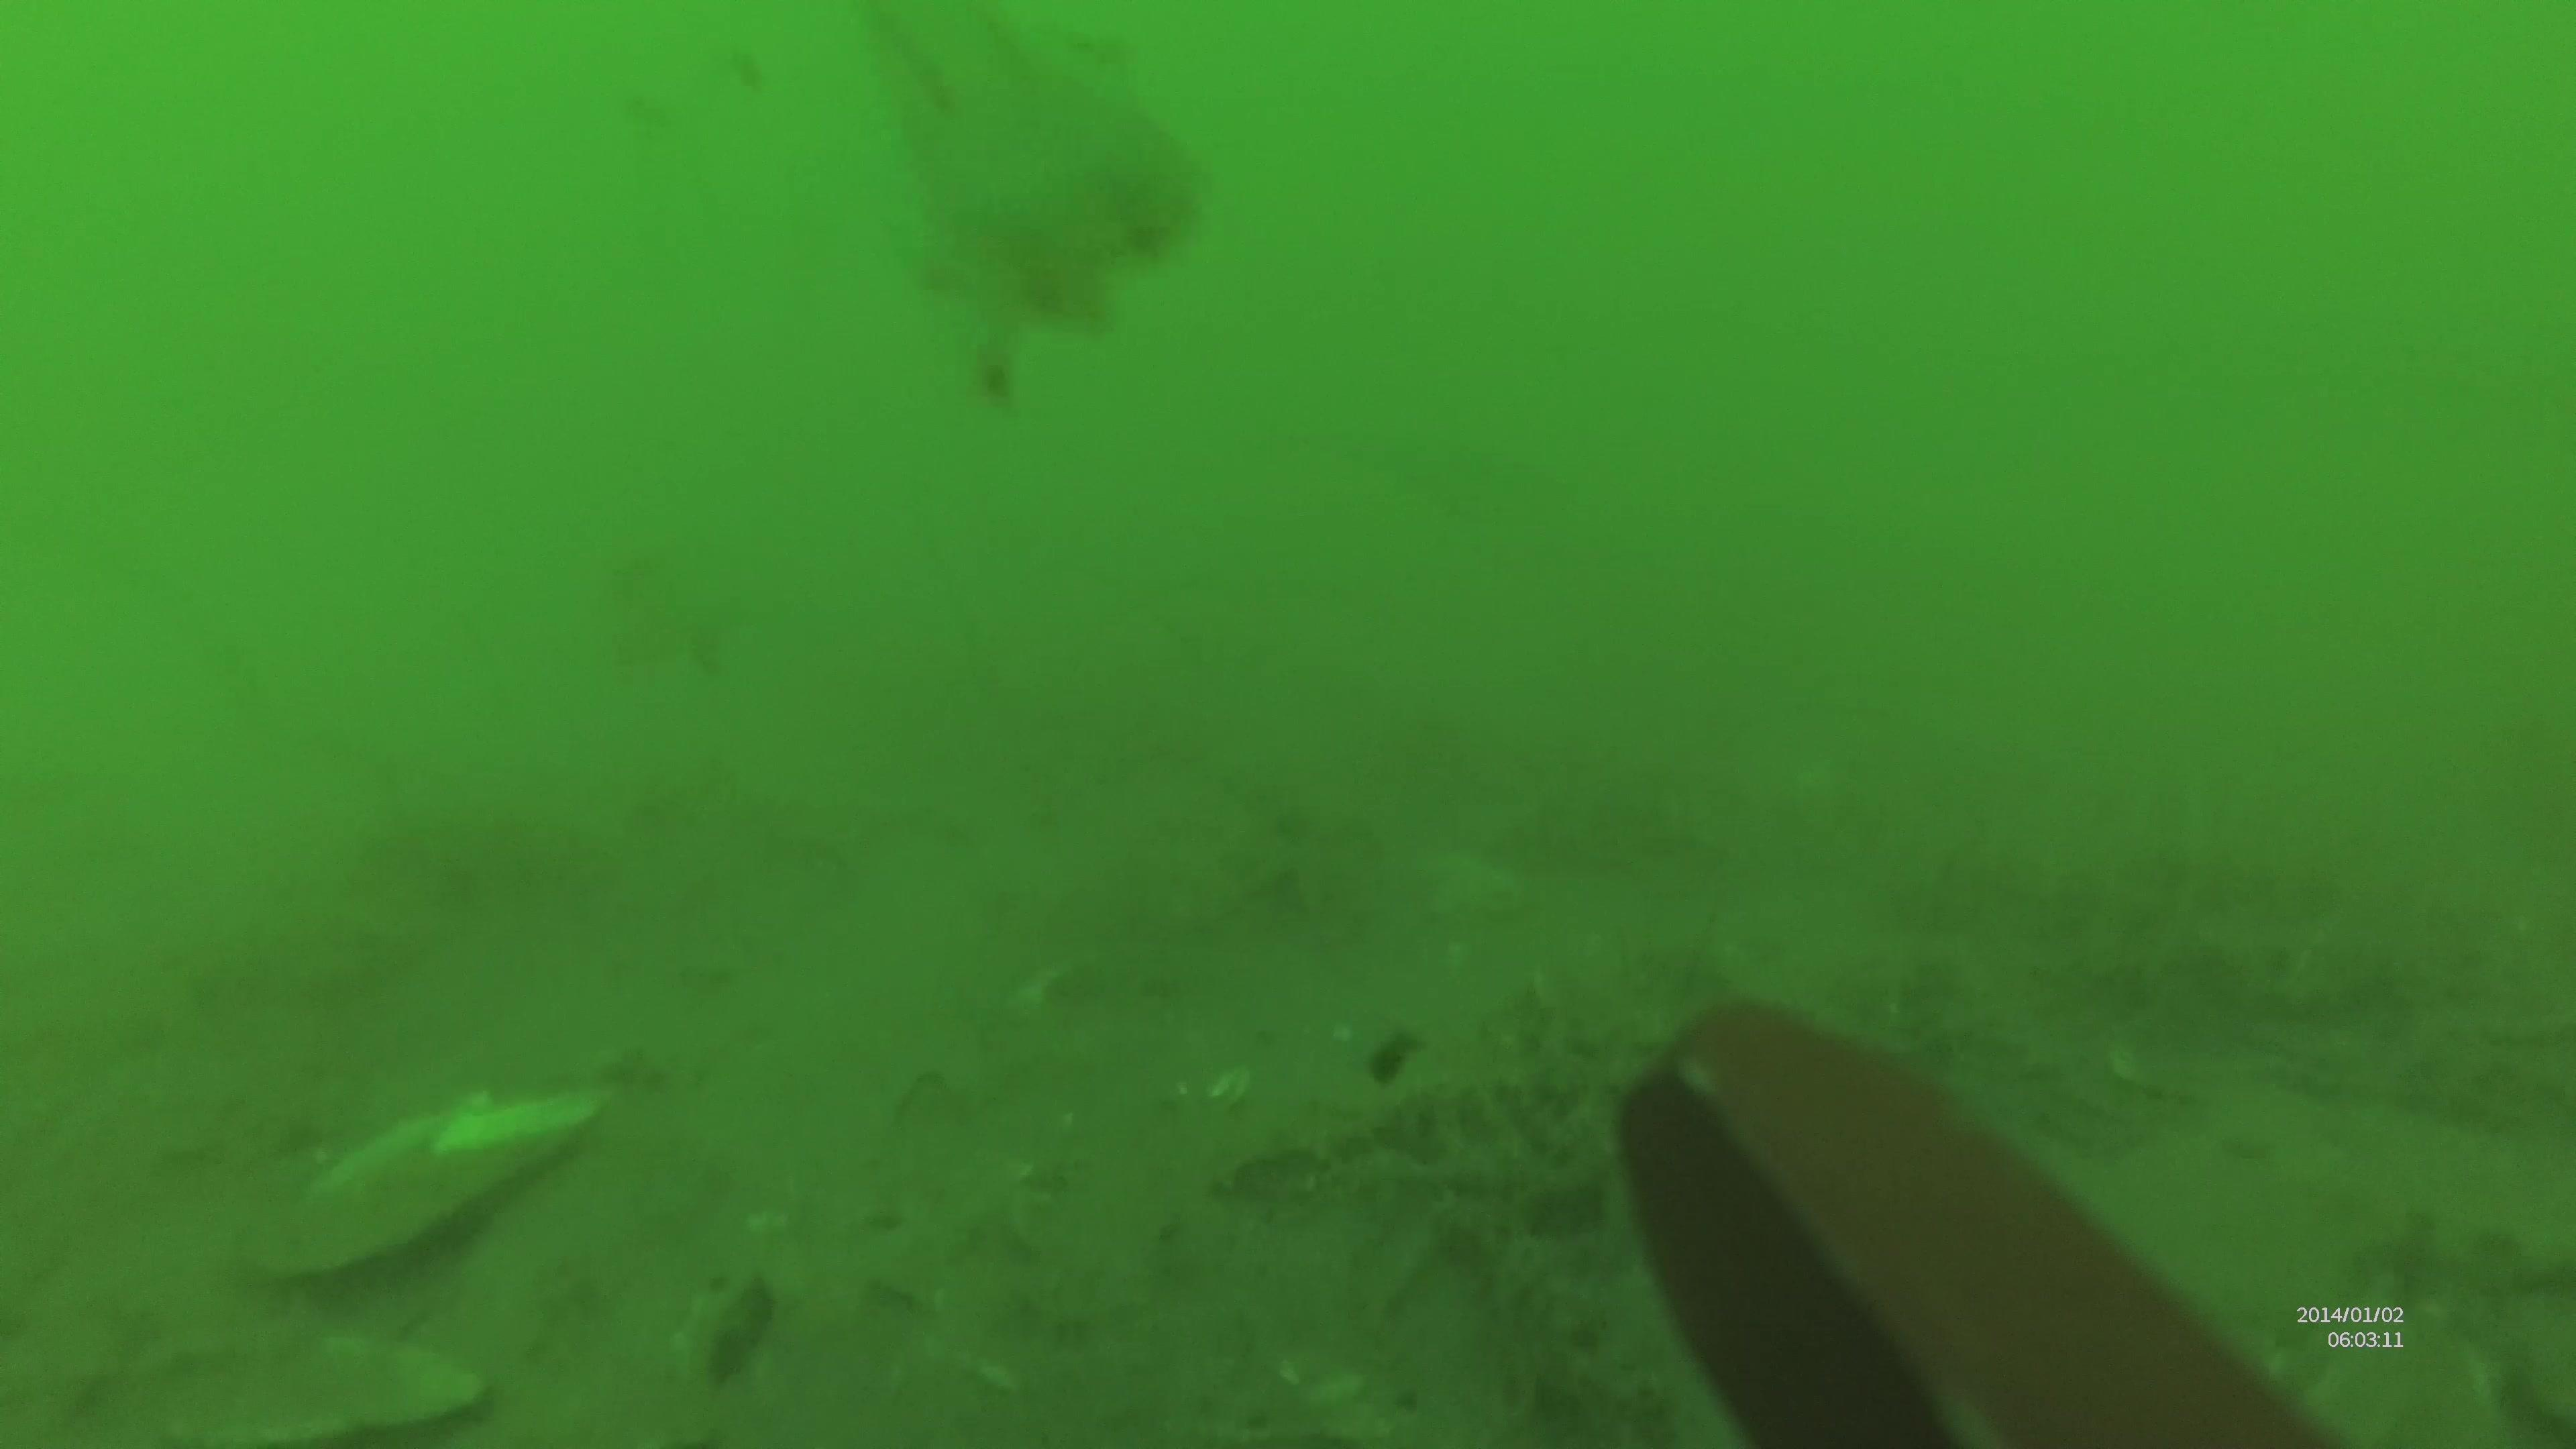scallop: (237, 1086, 617, 1281), (166, 1341, 494, 1449)
